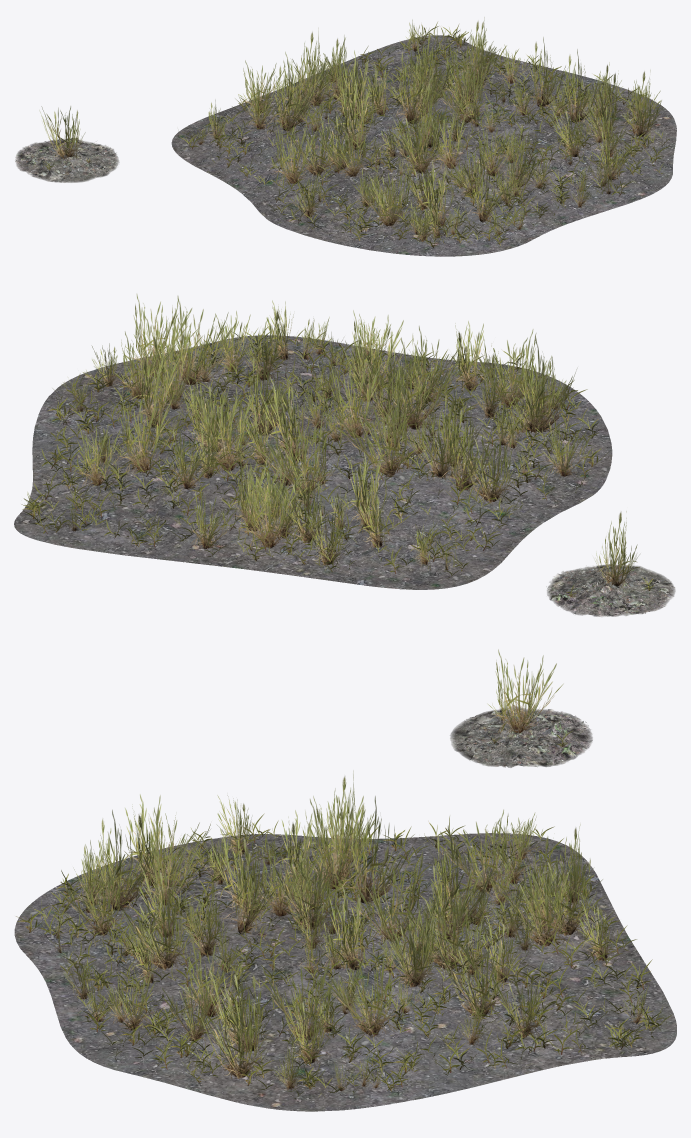
Rendered from chunks.glb.
The picture shows the model from 3 angles, top to bottom: view 1: azimuth 30°, elevation 25°; view 2: azimuth 150°, elevation 25°; view 3: azimuth 270°, elevation 25°; orthographic projection. The views are drawn at different scales.
Visible parts, largest first — view 1: ground_close_04, rostlinka_7c_scater, Forest001, rostlinka_07_ground_rostlinka_07_ground_0, rostlinka_07c; view 2: ground_close_04, rostlinka_7c_scater, Forest001, rostlinka_07_ground_rostlinka_07_ground_0, rostlinka_07c; view 3: ground_close_04, rostlinka_7c_scater, Forest001, rostlinka_07_ground_rostlinka_07_ground_0, rostlinka_07c.
Part boxes in pixels (x1=…): ground_close_04: x1=171, y1=35, x2=676, y2=256; rostlinka_7c_scater: x1=191, y1=17, x2=663, y2=241; Forest001: x1=179, y1=22, x2=669, y2=247; rostlinka_07_ground_rostlinka_07_ground_0: x1=15, y1=137, x2=119, y2=182; rostlinka_07c: x1=39, y1=106, x2=85, y2=160; ground_close_04: x1=14, y1=335, x2=612, y2=589; rostlinka_7c_scater: x1=63, y1=294, x2=593, y2=570; Forest001: x1=21, y1=319, x2=608, y2=578; rostlinka_07_ground_rostlinka_07_ground_0: x1=546, y1=564, x2=675, y2=616; rostlinka_07c: x1=595, y1=511, x2=638, y2=589; ground_close_04: x1=14, y1=833, x2=676, y2=1111; rostlinka_7c_scater: x1=49, y1=771, x2=648, y2=1091; Forest001: x1=16, y1=813, x2=671, y2=1099; rostlinka_07_ground_rostlinka_07_ground_0: x1=450, y1=706, x2=592, y2=767; rostlinka_07c: x1=488, y1=649, x2=563, y2=733.
Size of the model in its own units: 3.75 by 0.7453 by 2.76.
Materials: 4 (4 with a texture image).
